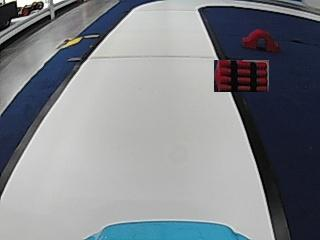bridge: (242, 27, 277, 52)
